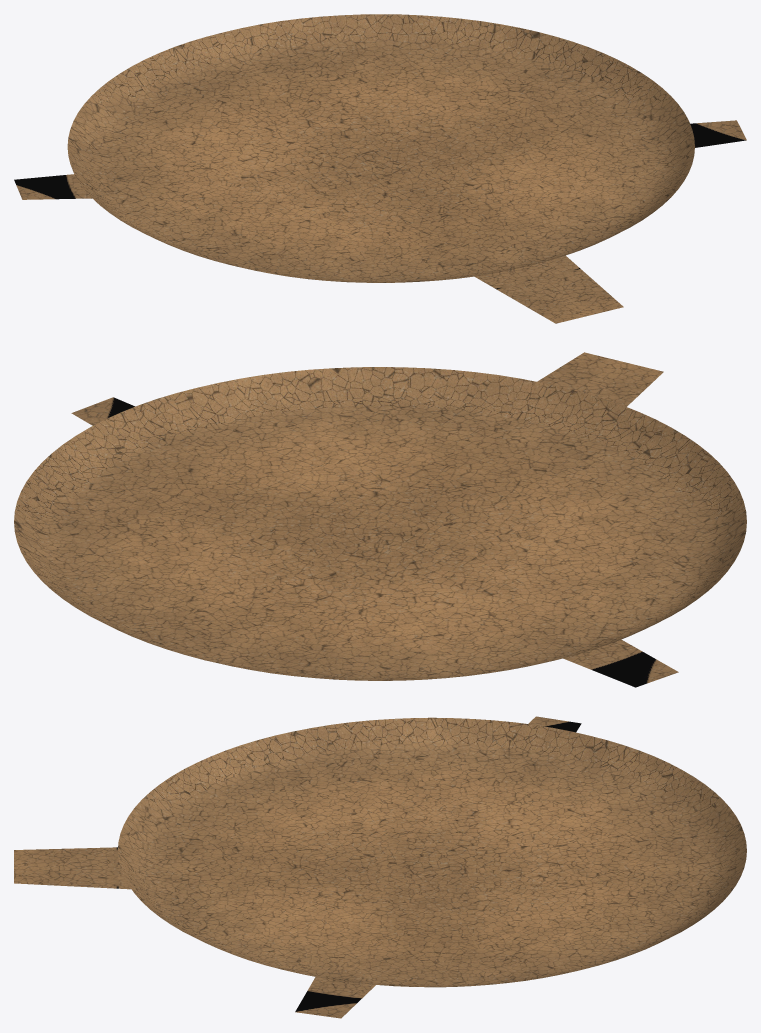
The model's file is lf_arena_floor.glb.
3 renders of one model, top to bottom at view 1: azimuth 30°, elevation 25°; view 2: azimuth 150°, elevation 25°; view 3: azimuth 270°, elevation 25°, orthographic. The views are drawn at different scales.
Visible parts, largest first — view 1: lf_arena_floor_LOD0; view 2: lf_arena_floor_LOD0; view 3: lf_arena_floor_LOD0.
Boxes of the visible parts, x1=… form: lf_arena_floor_LOD0: x1=14, y1=14, x2=746, y2=323; lf_arena_floor_LOD0: x1=14, y1=352, x2=746, y2=687; lf_arena_floor_LOD0: x1=14, y1=716, x2=746, y2=1018.
Size of the model in its own units: 44.09 by 1.28 by 45.2.
1 material, 1 textured.
